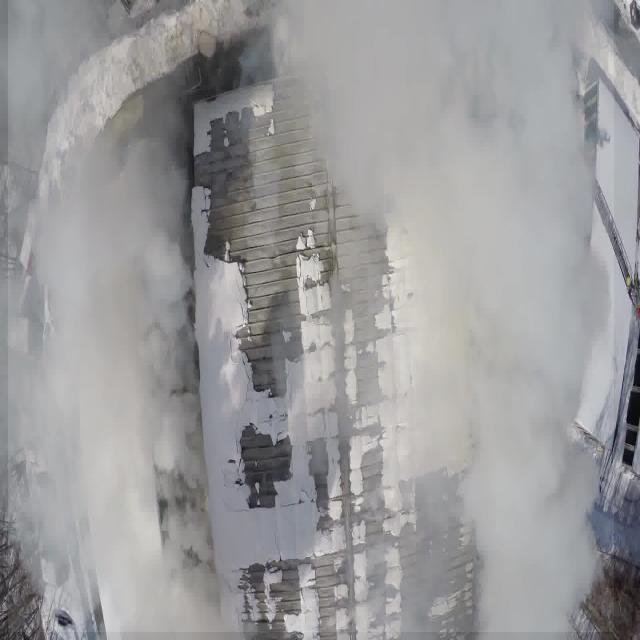Smoke: (8, 0, 614, 632)
